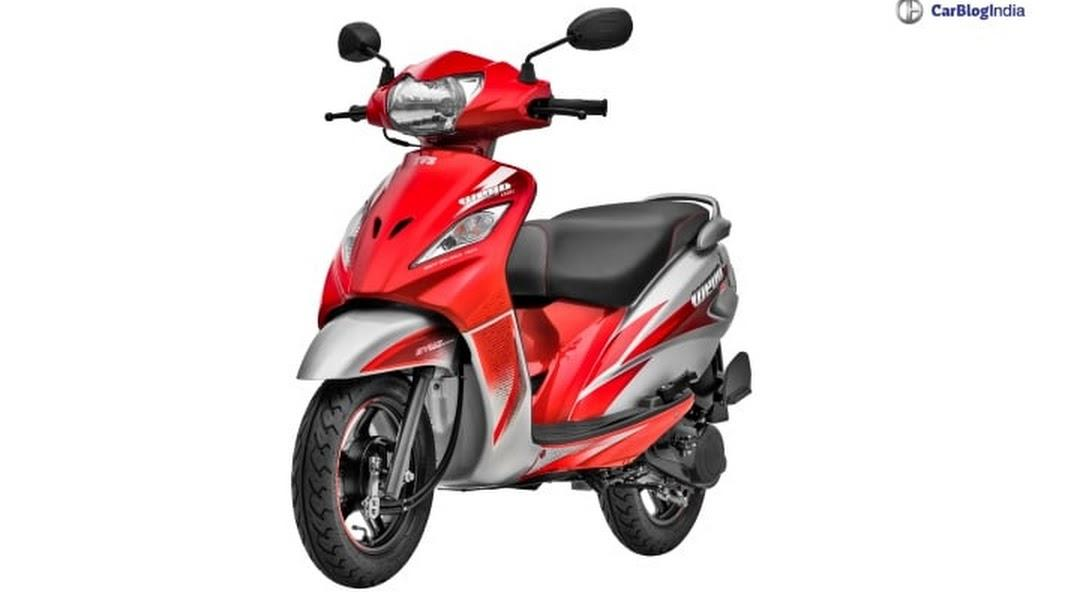motorbike: (289, 7, 753, 588)
